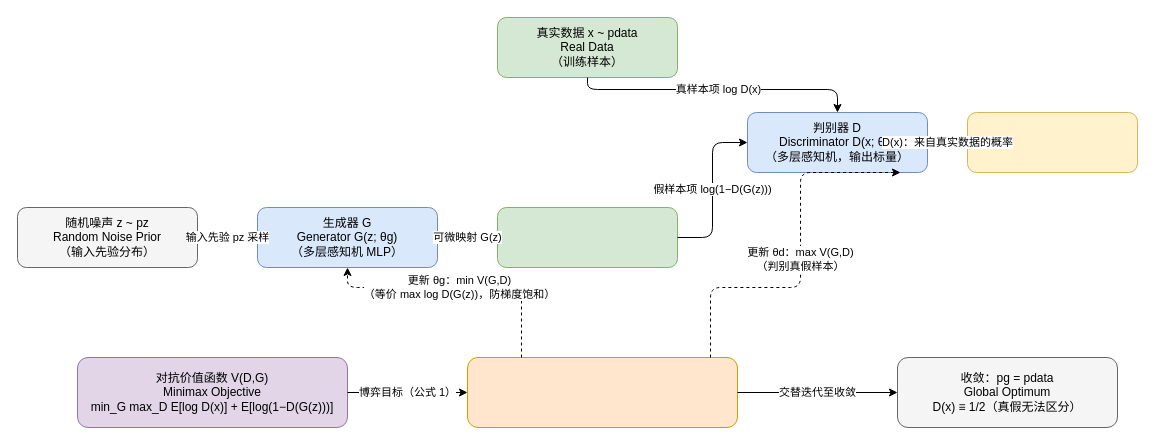
Image size: 1155x445. Some labels were removed from this diagram. Each missing label, with the centre of its shape:
"对抗训练更新 Backpropagation Updates （交替：k 步优化 D，1 步优化 G，k = 1）" goes at point 602,392.
"生成样本 G(z) Generated Samples （隐含分布 pg）" goes at point 587,237.
"真/假判定 D(x) Real / Fake Probability 最优解 D* = pdata/(pdata+pg)" goes at point 1052,142.
